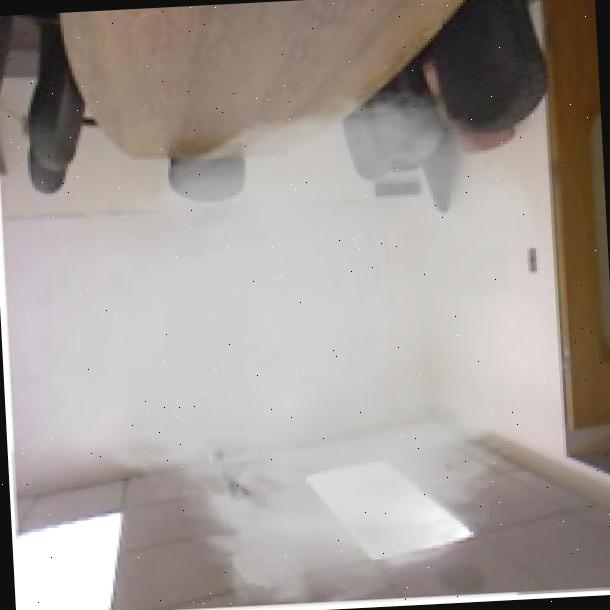smoke: (211, 193, 462, 555)
